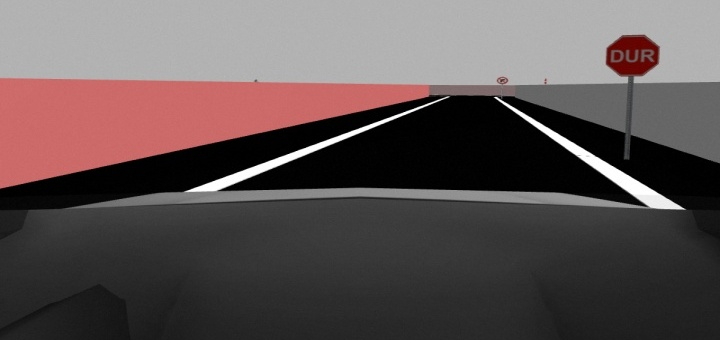dur: (605, 28, 662, 81)
